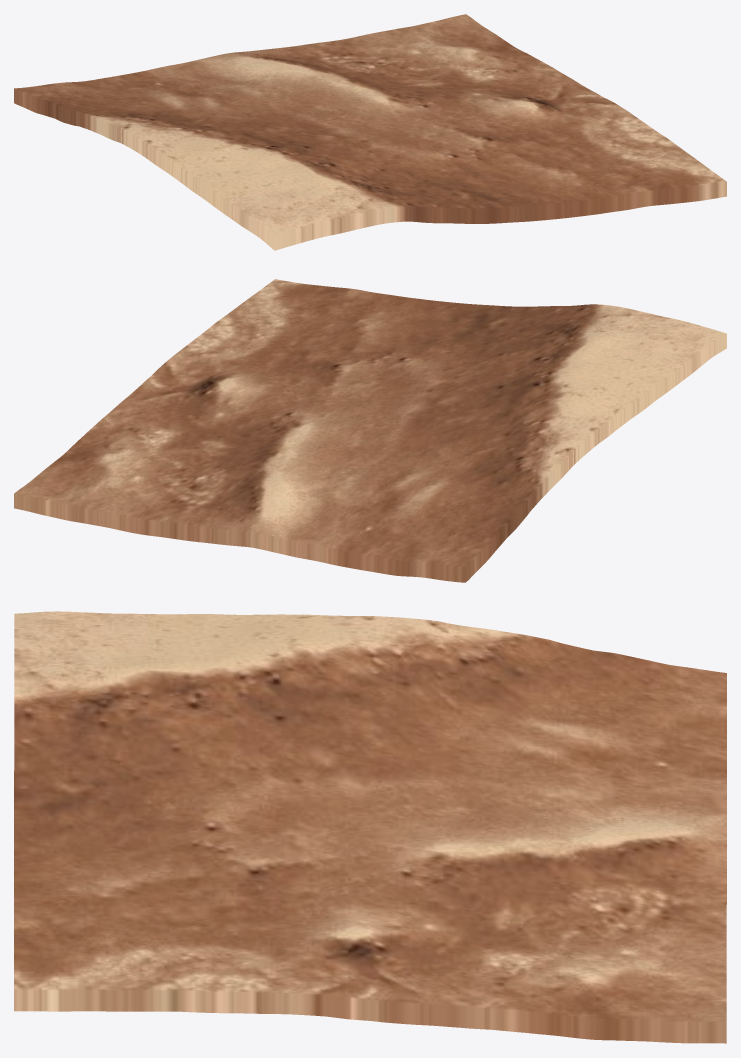
The picture shows the model from 3 angles, top to bottom: view 1: azimuth 30°, elevation 25°; view 2: azimuth 150°, elevation 25°; view 3: azimuth 270°, elevation 25°; orthographic projection. The views are drawn at different scales.
Parts seen in each view (by area): view 1: L7_39_40; view 2: L7_39_40; view 3: L7_39_40.
Part boxes in pixels (box(x1,y1,x2,y2)): L7_39_40: box(14, 14, 726, 250); L7_39_40: box(14, 279, 726, 582); L7_39_40: box(14, 611, 726, 1043).
Size of the model in its own units: 113 by 23.18 by 113.
Materials: 1 (1 with a texture image).
